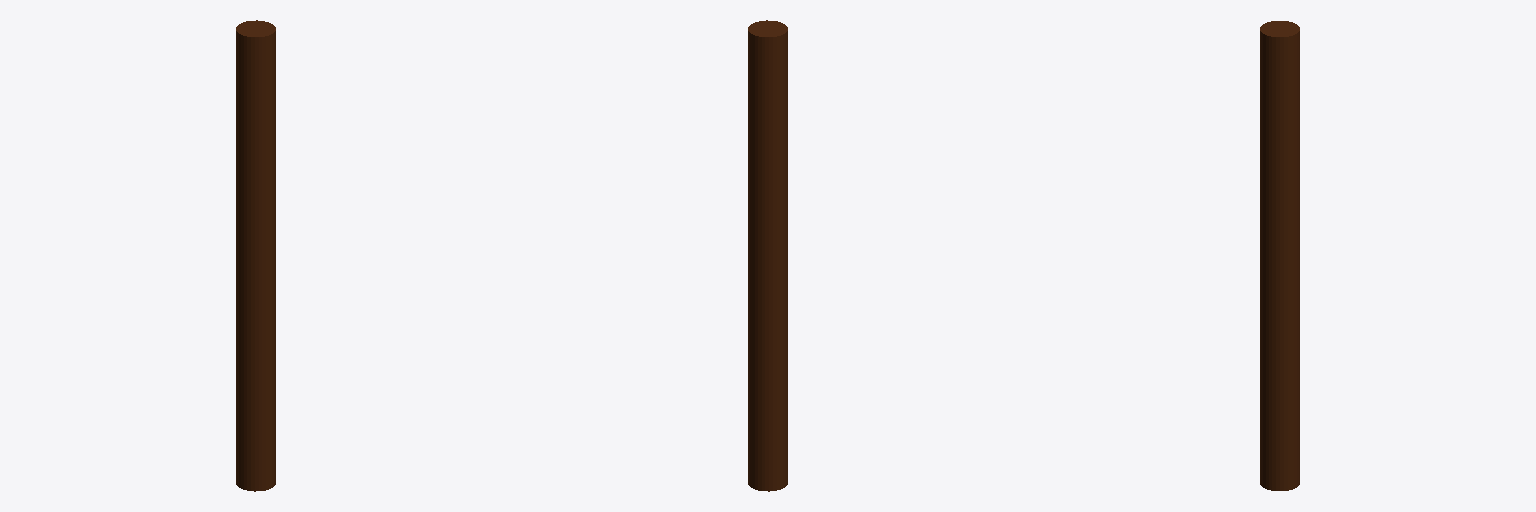
URDF robot description (tree_cylinder):
<?xml version="1.0" ?>
<robot name="tree_cylinder">
    <link name="body">
    <inertial>
      <origin xyz="0 0 0" rpy="0 0 0"/>
      <mass value="0.1"/>
      <inertia ixx="1" ixy="0" ixz="0" iyy="1" iyz="0" izz="1"/>
    </inertial>
    <!-- Visual representation of the cube (0.3m x 0.3m x 0.3m) -->
    <visual>
      <origin xyz="0 0 0" rpy="0 0 0"/>
      <geometry>
        <cylinder radius="0.2" length="5.0"/>
      </geometry>
      <material name="brown">
        <color rgba="0.35 0.20 0.10 1.0"/>
      </material>
    </visual>
    <!-- Collision representation of the cube (0.3m x 0.3m x 0.3m) -->
    <collision>
      <origin xyz="0 0 0" rpy="0 0 0"/>
      <geometry>
        <cylinder radius="0.2" length="5.0"/>
      </geometry>
    </collision>    
    <!-- Contact properties (optional, e.g., friction) --> 
    <contact>
      <lateral_friction value="1.0"/>
      <rolling_friction value="0.0"/>
      <restitution value="0.0"/>
    </contact>
  </link>
</robot>  

--- Render facts (derived) ---
Views: 3 orthographic renders of the robot side by side, from view 1: azimuth 30°, elevation 25°; view 2: azimuth 150°, elevation 25°; view 3: azimuth 270°, elevation 25°.
Model tree_cylinder with 1 links and 0 joints (none), rooted at body, posed all joints at 0.
Links seen in each view (by area): view 1: body; view 2: body; view 3: body.
Link boxes in pixels (x1,y1,x2,y2): body: (236, 20, 275, 491); body: (748, 20, 787, 491); body: (1260, 21, 1299, 490).
Bounding box of the posed robot: 0.4 × 0.4 × 5 m (x, y, z).
Geometry: primitives only (box / cylinder / sphere), no mesh files.
